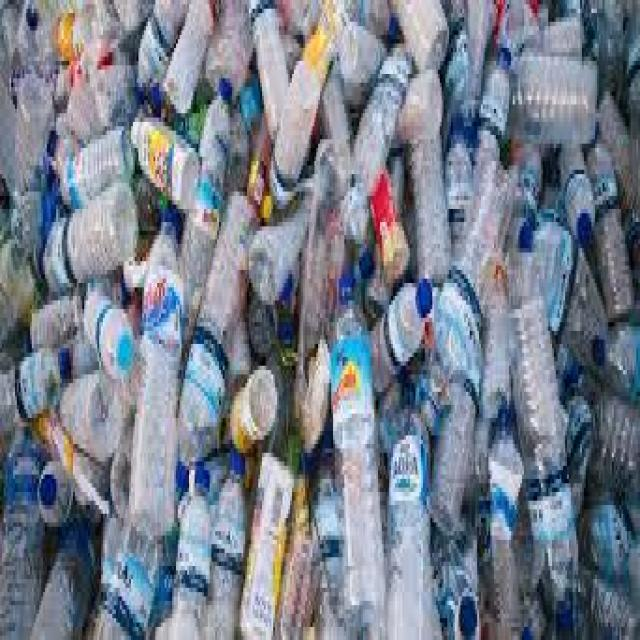heap: (16, 40, 630, 615)
